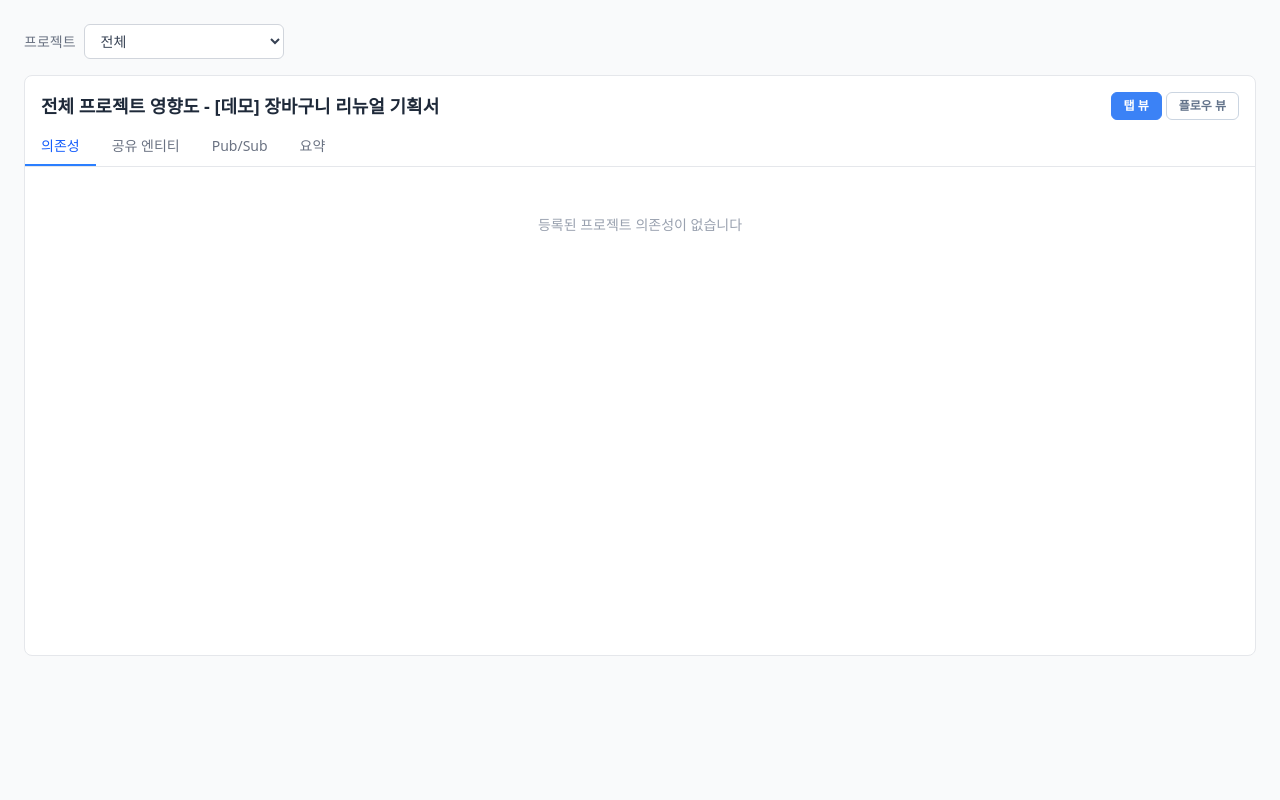
Test: FlowChart - "전체" 모드 (CrossProjectDiagram) › should render CrossProjectSummary in "all" mode when summary tab is clicked
Expected: the element with test id "cross-project-tabs" is shown, x1=25 y1=128 x2=1255 y2=234
// "요약" 탭 클릭
Step 1. Click the tab with test id "tab-summary" → (312, 147), box x1=284 y1=128 x2=341 y2=166
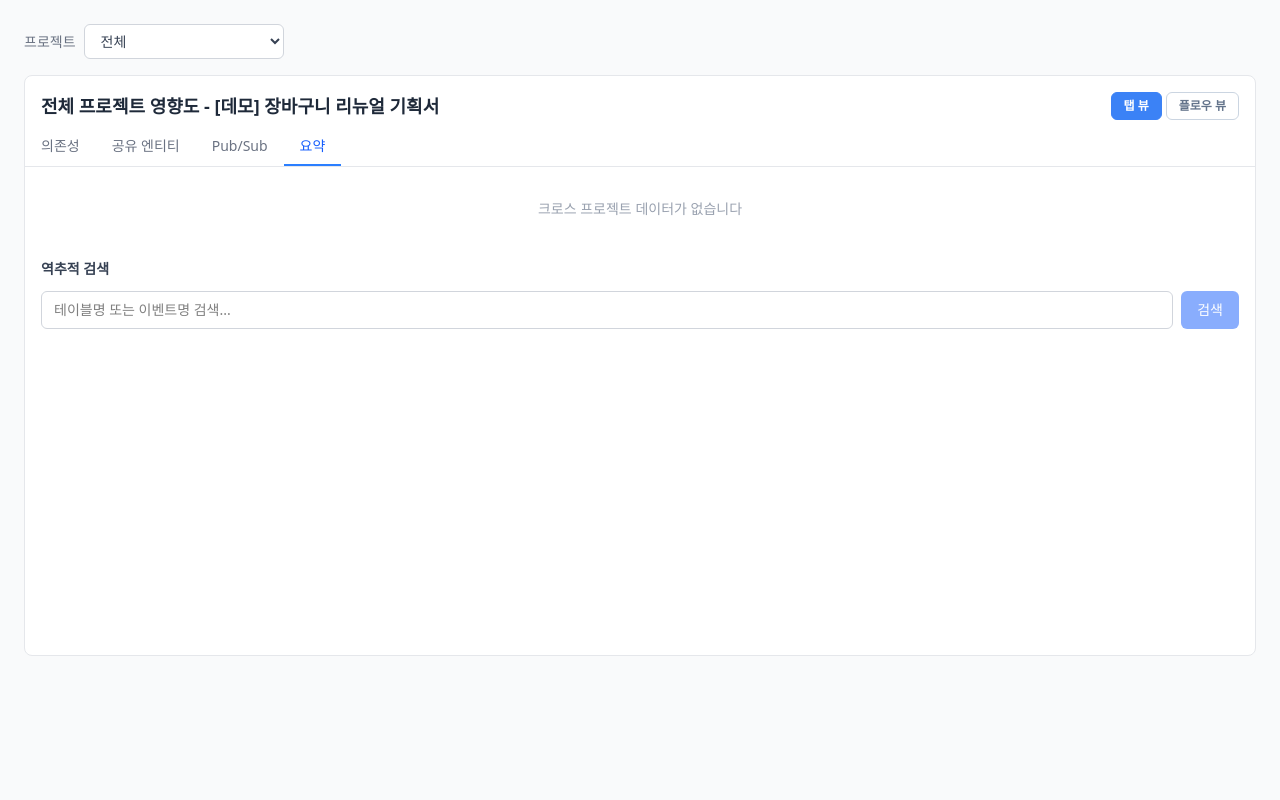
Now the text "크로스 프로젝트 데이터가 없습니다" is shown, box x1=538 y1=199 x2=742 y2=218
